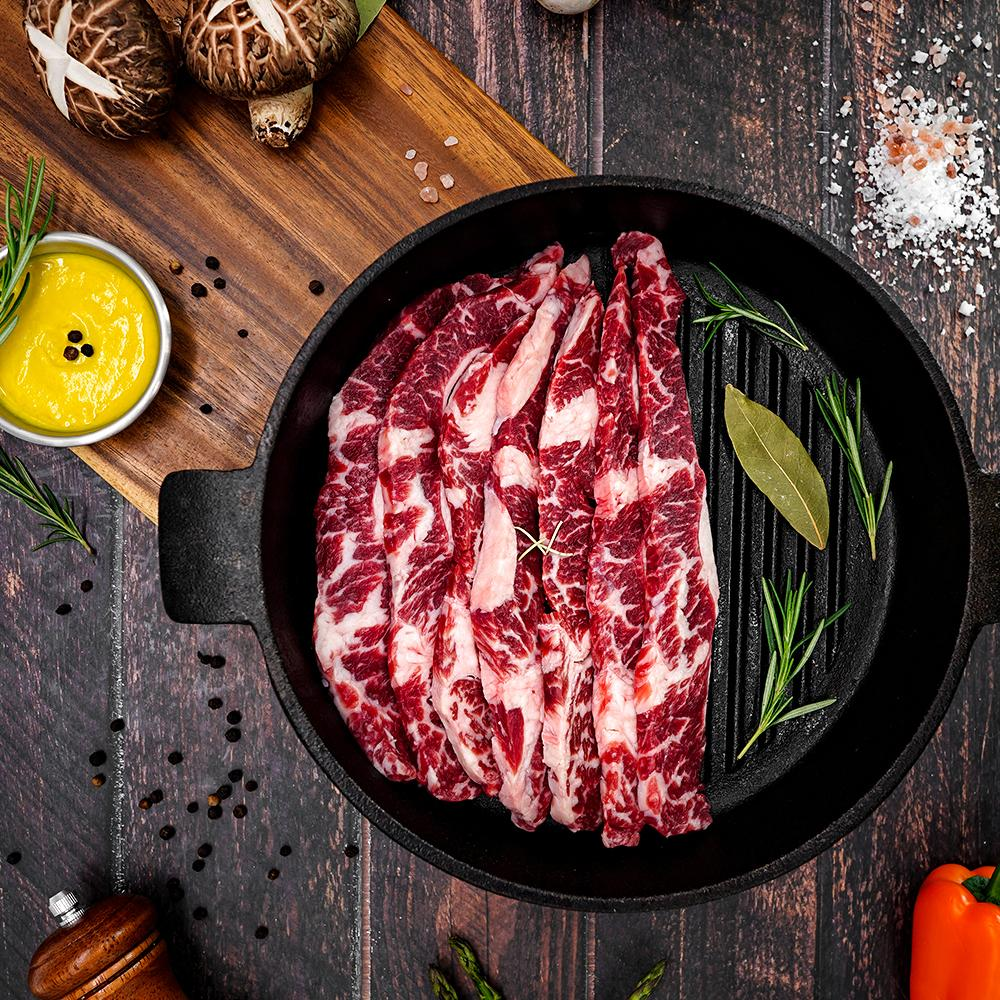beef: (598, 506, 1000, 1000)
